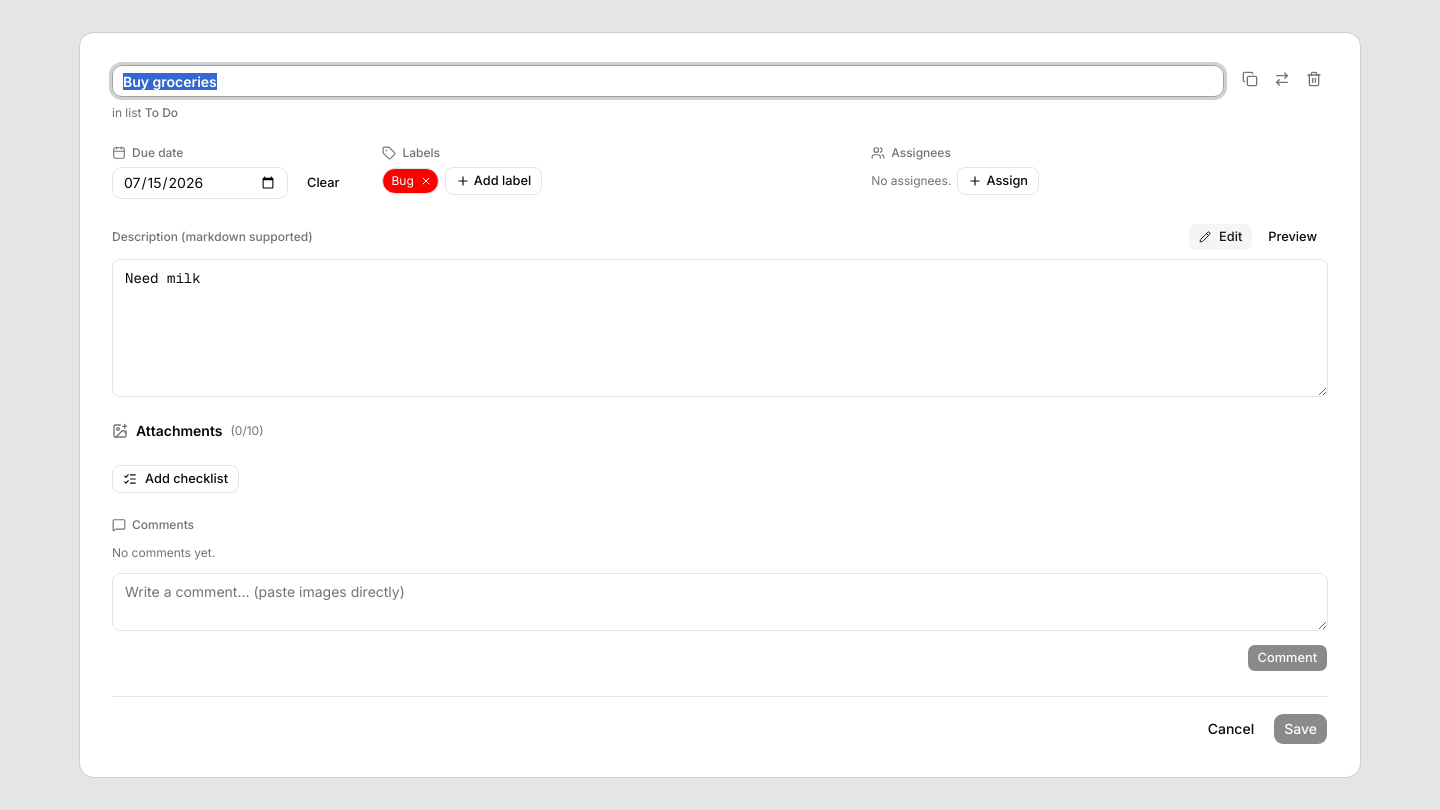
Test: CardDetail modal › opens a label picker popover with only available (unselected) labels
The image size is (1440, 810).
Check: the field named "Card title" is shown, box [112,65,1224,97]
Click the button with aria-label "add or create label" at (494, 181), box [445,167,542,195]
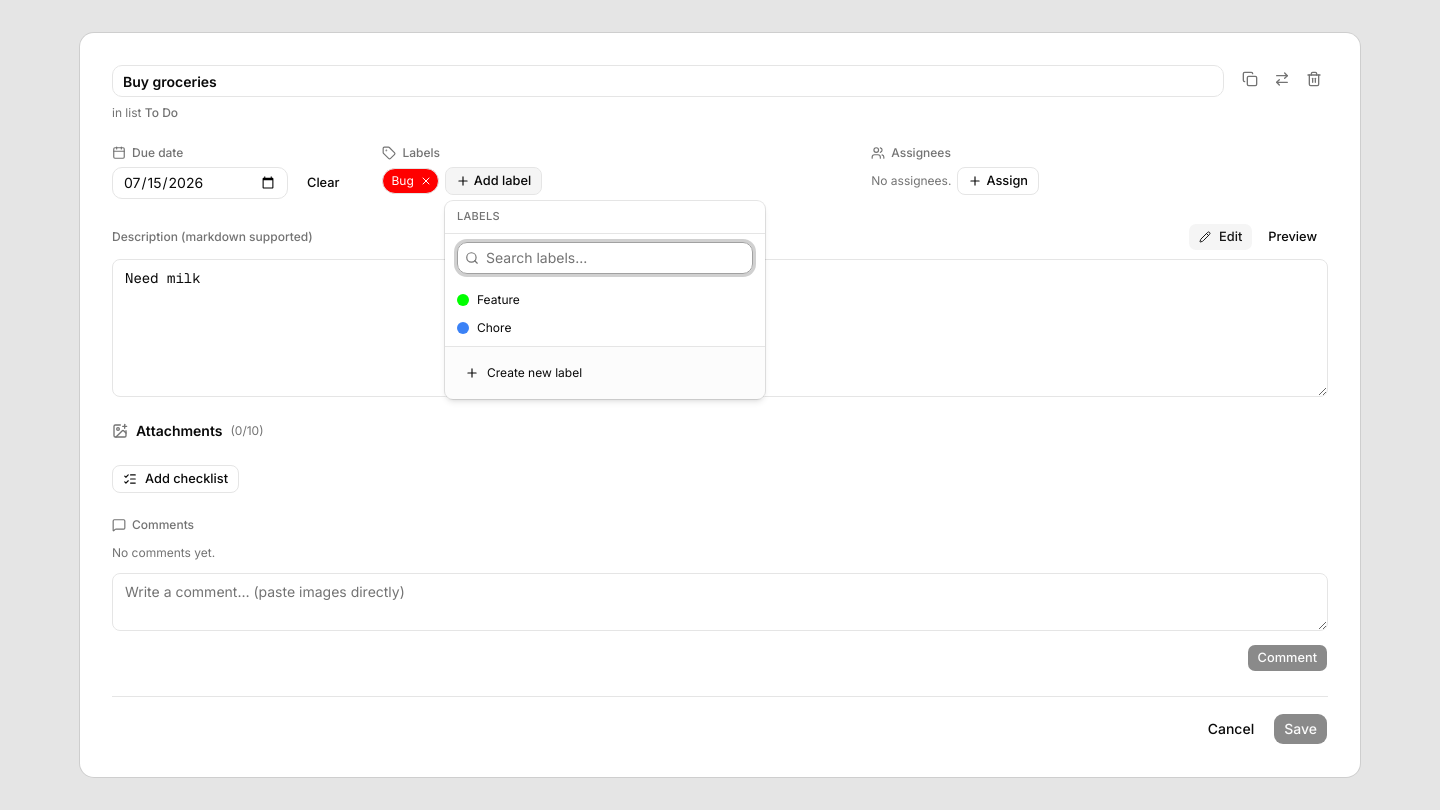
Check: the field labelled "search labels" does not show "Bug"
Check: the dialog named "search labels" shows "Feature", box [449,286,761,314]
Check: the dialog named "search labels" shows "Chore", box [449,314,761,342]
